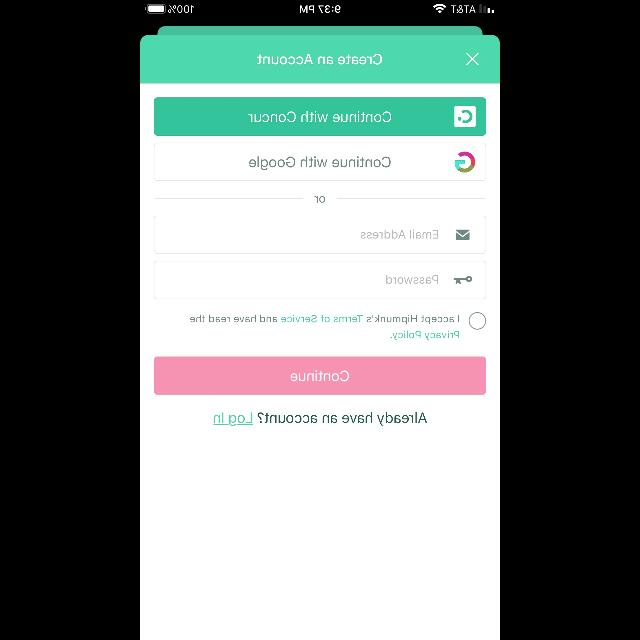checkbox: (468, 312, 486, 330)
icon: (453, 276, 471, 284), (466, 53, 478, 65), (456, 230, 468, 240)
input: (154, 261, 486, 299), (154, 216, 486, 254)
text: (190, 315, 458, 341), (214, 412, 426, 426), (258, 54, 382, 64), (360, 230, 438, 238), (386, 276, 438, 284), (314, 196, 326, 204)
textbutton: (154, 357, 486, 395), (154, 143, 486, 181), (154, 98, 486, 136)
uppertaskbar: (140, 0, 500, 14)
